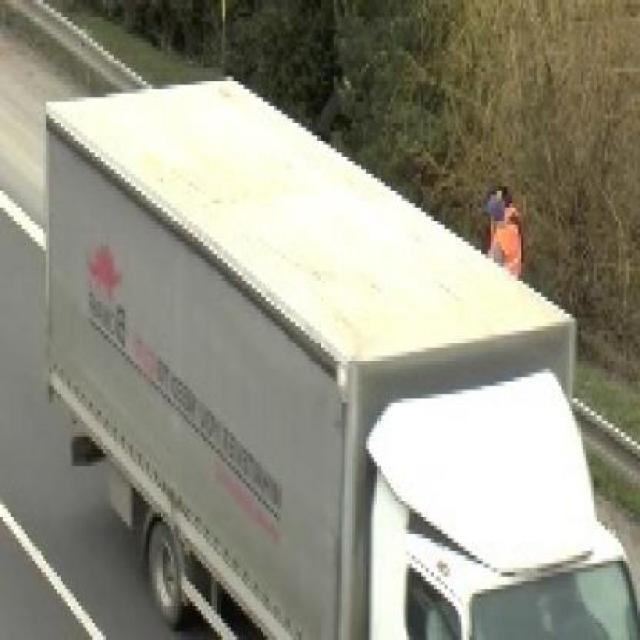truck: (44, 65, 638, 637)
